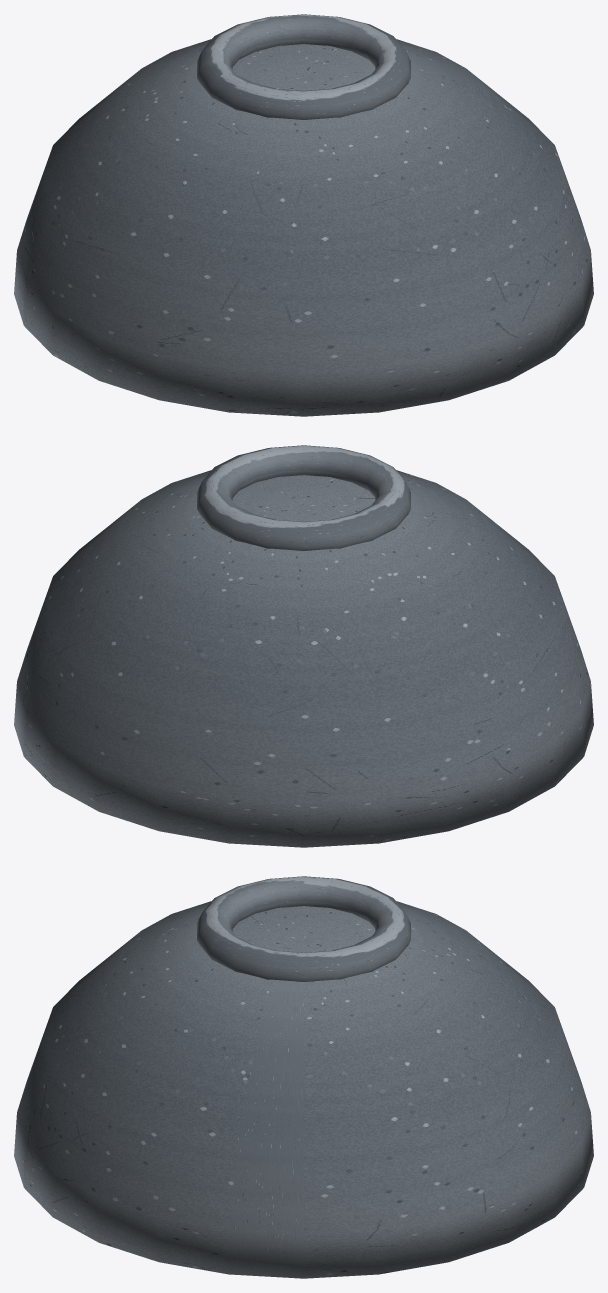
Rendered from chen-up.glb.
3 views of the same model, one above another, from view 1: azimuth 30°, elevation 25°; view 2: azimuth 150°, elevation 25°; view 3: azimuth 270°, elevation 25° (orthographic).
Parts seen in each view (by area): view 1: chen; view 2: chen; view 3: chen.
Part boxes in pixels (x1=…): chen: x1=14, y1=14, x2=593, y2=416; chen: x1=14, y1=445, x2=593, y2=847; chen: x1=14, y1=876, x2=593, y2=1278.
Size of the model in its own units: 0.192 by 0.088 by 0.192.
Materials: 1 (1 with a texture image).
